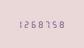eight: (38, 20, 44, 28), (59, 20, 65, 28)
five: (52, 20, 58, 28)
one: (17, 20, 23, 28)
seven: (45, 20, 51, 28)
six: (31, 20, 37, 28)
two: (24, 20, 30, 28)
